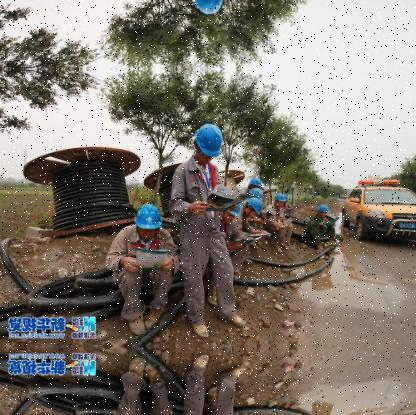helmet: (192, 121, 226, 162), (136, 201, 165, 240), (191, 0, 226, 16), (244, 198, 265, 217), (247, 187, 265, 201), (274, 191, 287, 208), (249, 176, 263, 190), (318, 203, 329, 216)
